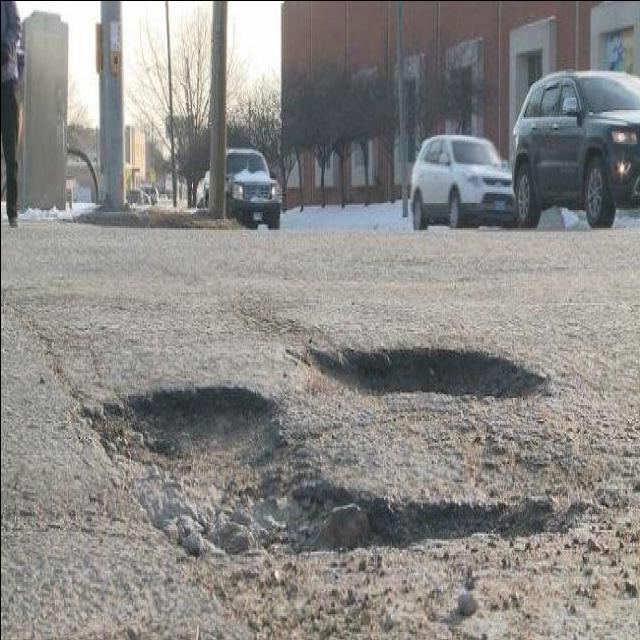lubang: (66, 370, 563, 590), (273, 325, 559, 393)
